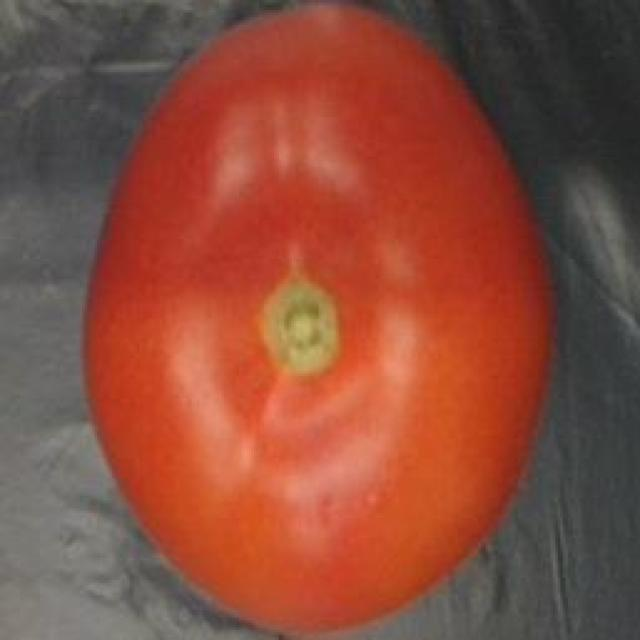ripe tomato: (75, 2, 570, 640)
